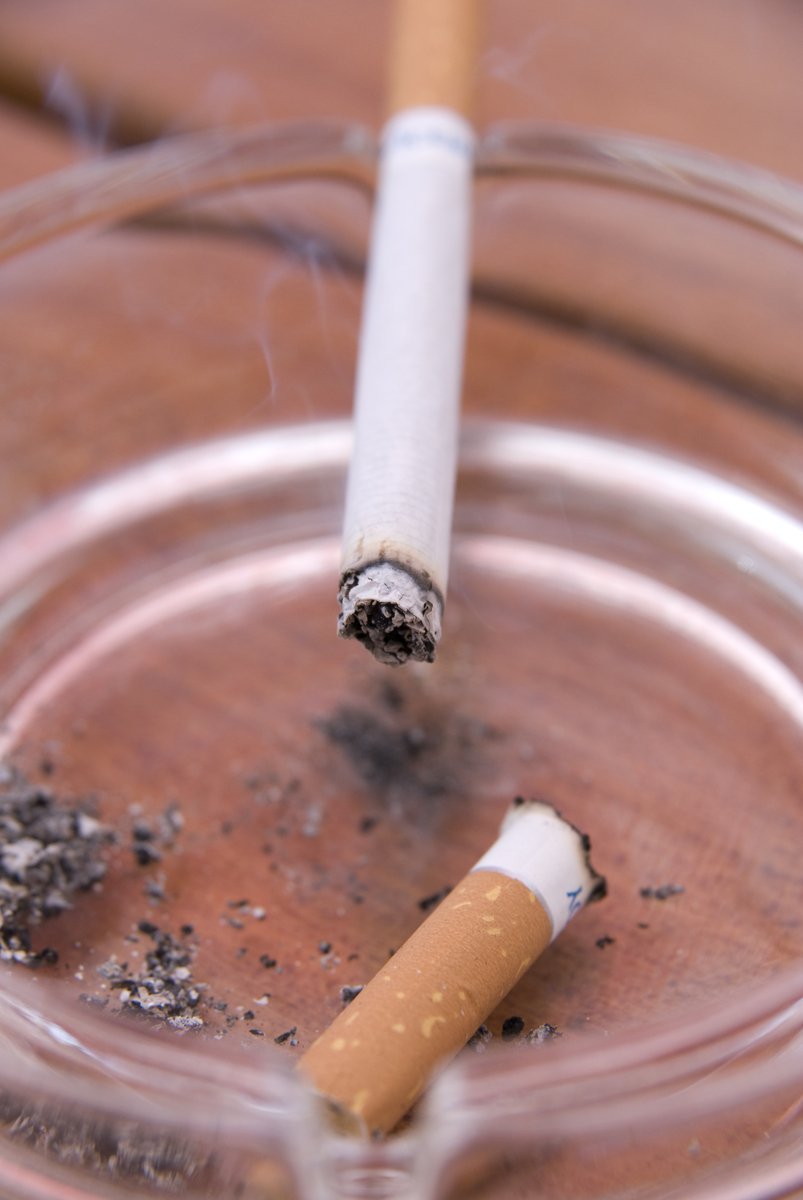cigarette: (286, 784, 596, 1140), (337, 2, 500, 663)
